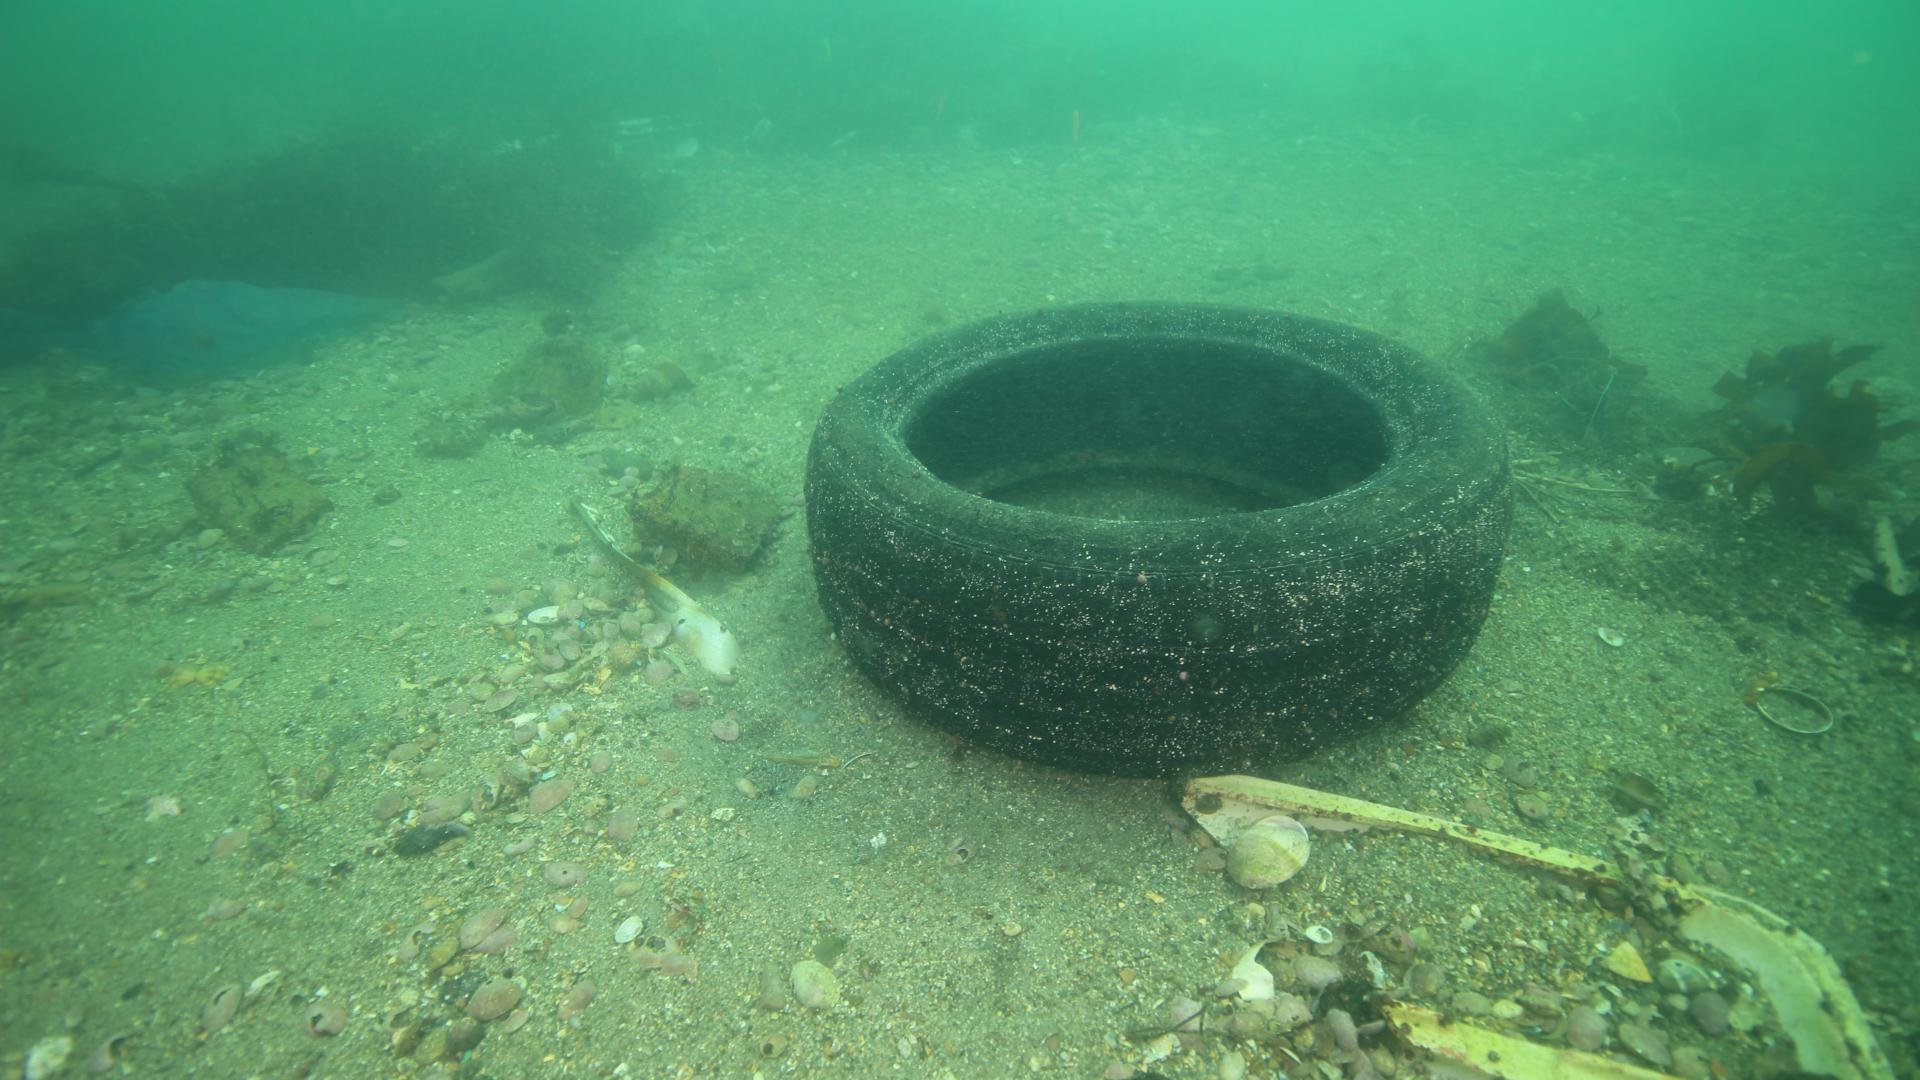tire: (800, 295, 1511, 771)
